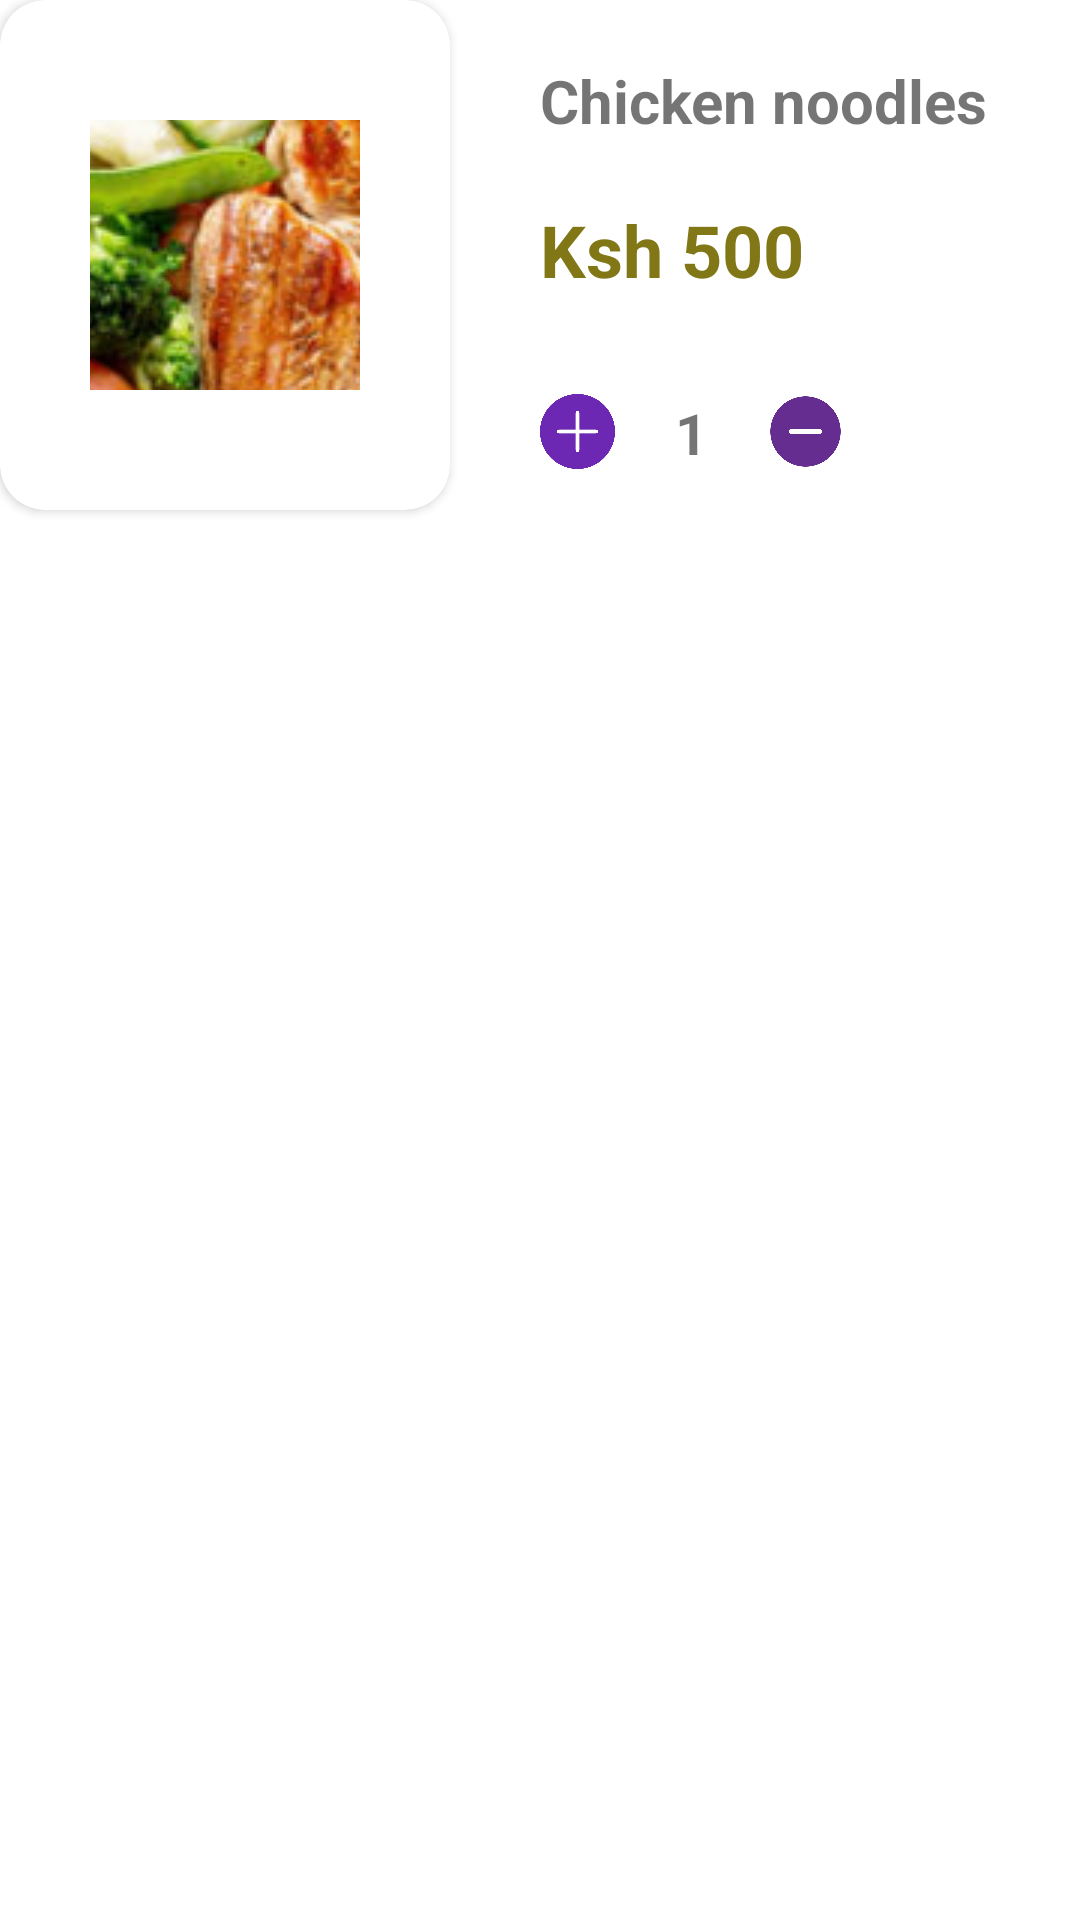

Locate icon controls on the screen. Image size 1080x1920, boxes as (x1, y1, x2, y2).
add: (540, 394, 615, 469)
food plate: (90, 120, 360, 390)
subtract: (770, 396, 841, 467)
